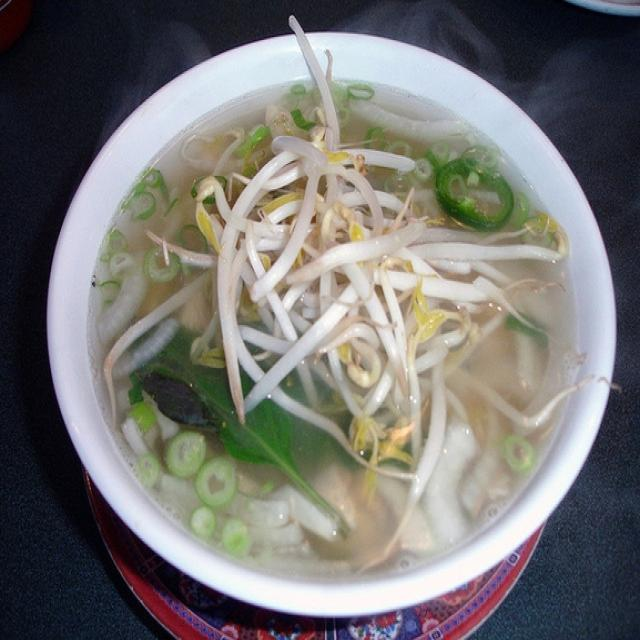面条主食: (70, 57, 596, 598)
